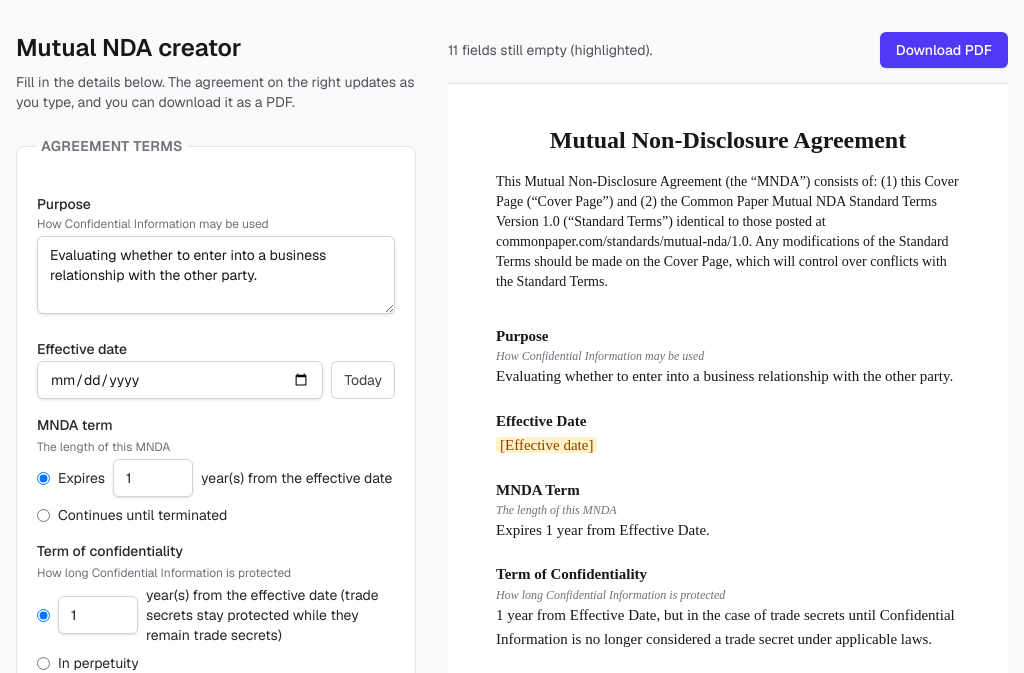
it: NdaBuilder › clamps out-of-range years to 1–99
The image size is (1024, 673).
Replace the text in the number field named "Term of confidentiality in years" with "100" at (98, 615), box 58,596 -> 138,634
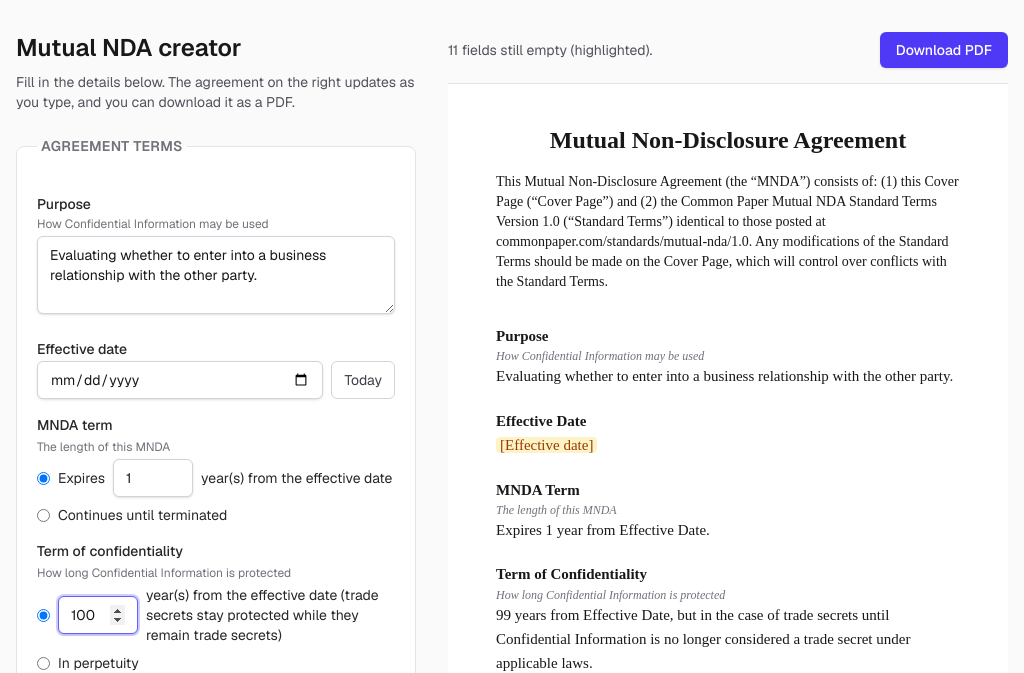
Press Tab
(page scrolled)
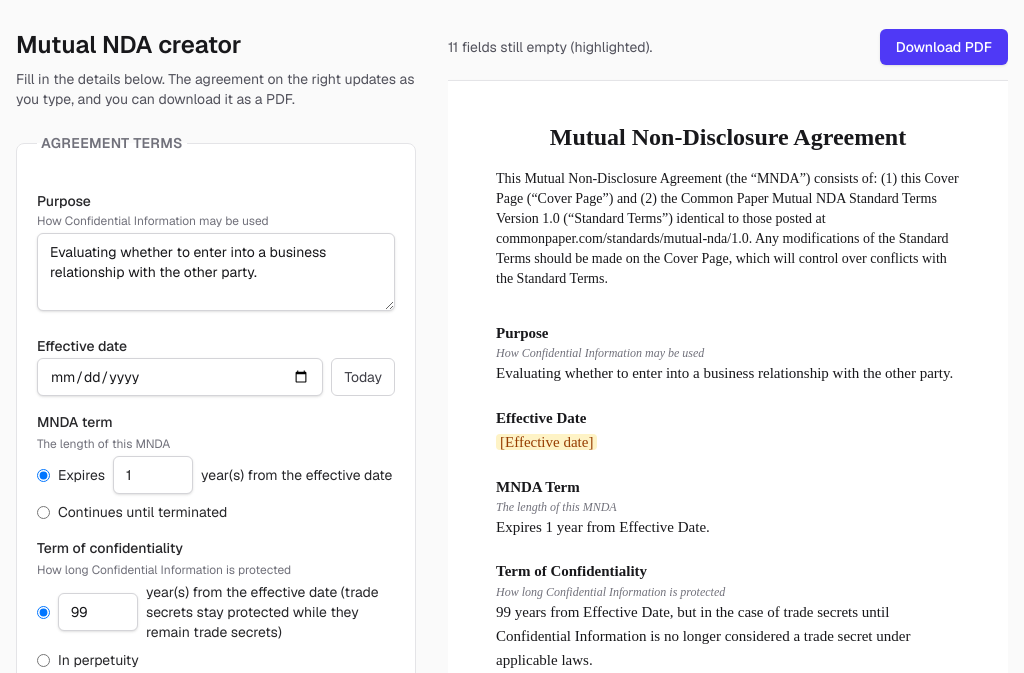
Check: the number field named "Term of confidentiality in years" holds "99"
Replace the text in the number field named "Term of confidentiality in years" with "0" at (98, 612), box 58,593 -> 138,631
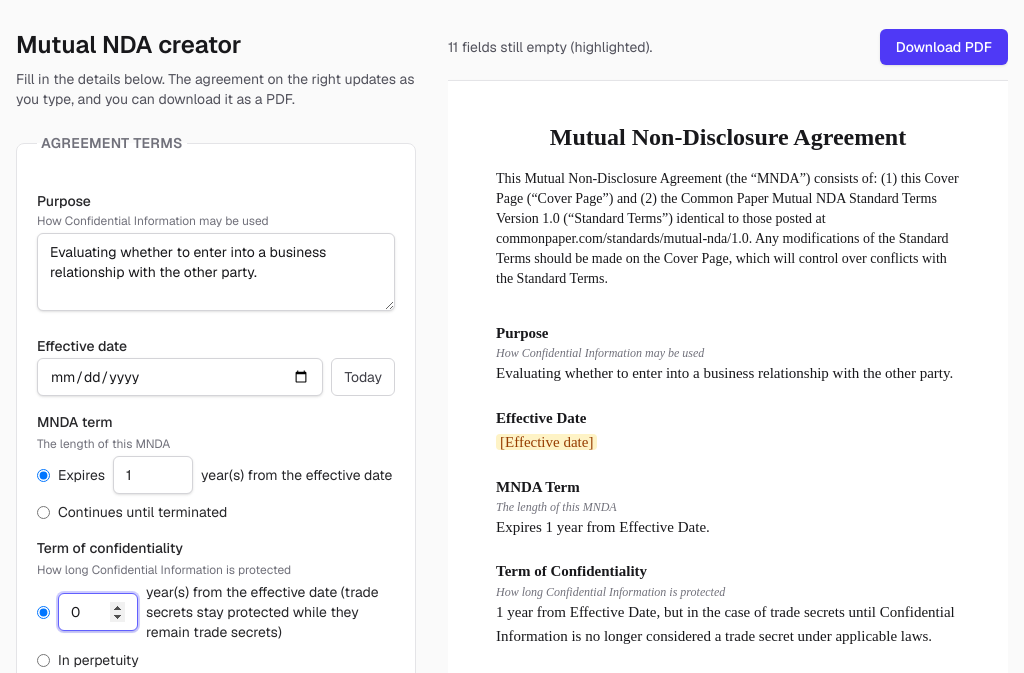
Press Tab
(page scrolled)
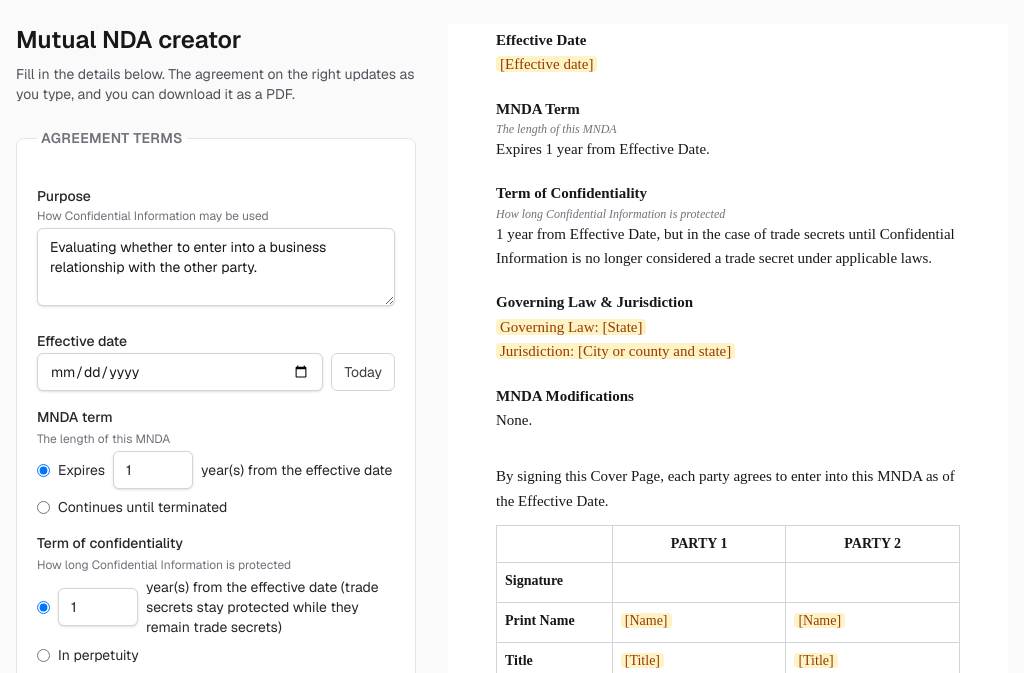
Check: the number field named "Term of confidentiality in years" holds "1", box 58,588 -> 138,626
Check: the element that starts with "Mutual Non-Disclosure Agreement" shows "1 year from Effective Date", box 496,141 -> 710,157
